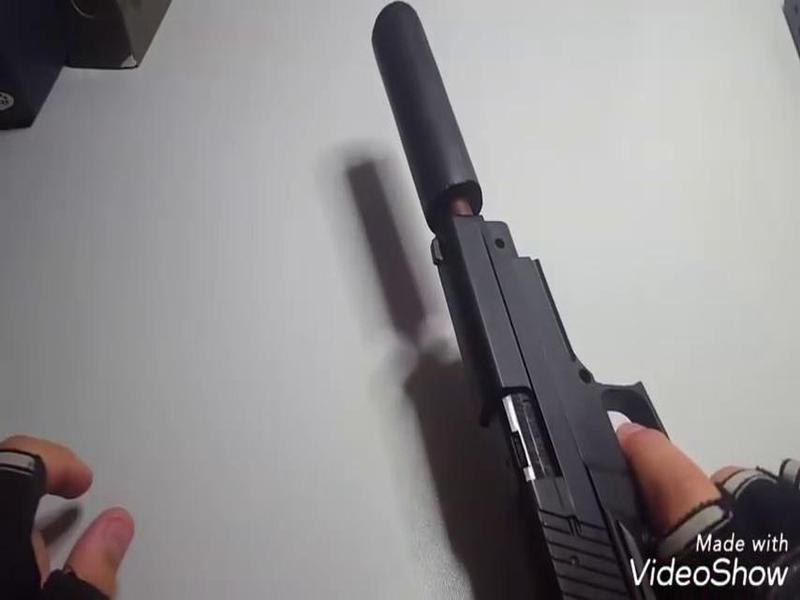Pistola: (428, 202, 693, 600)
